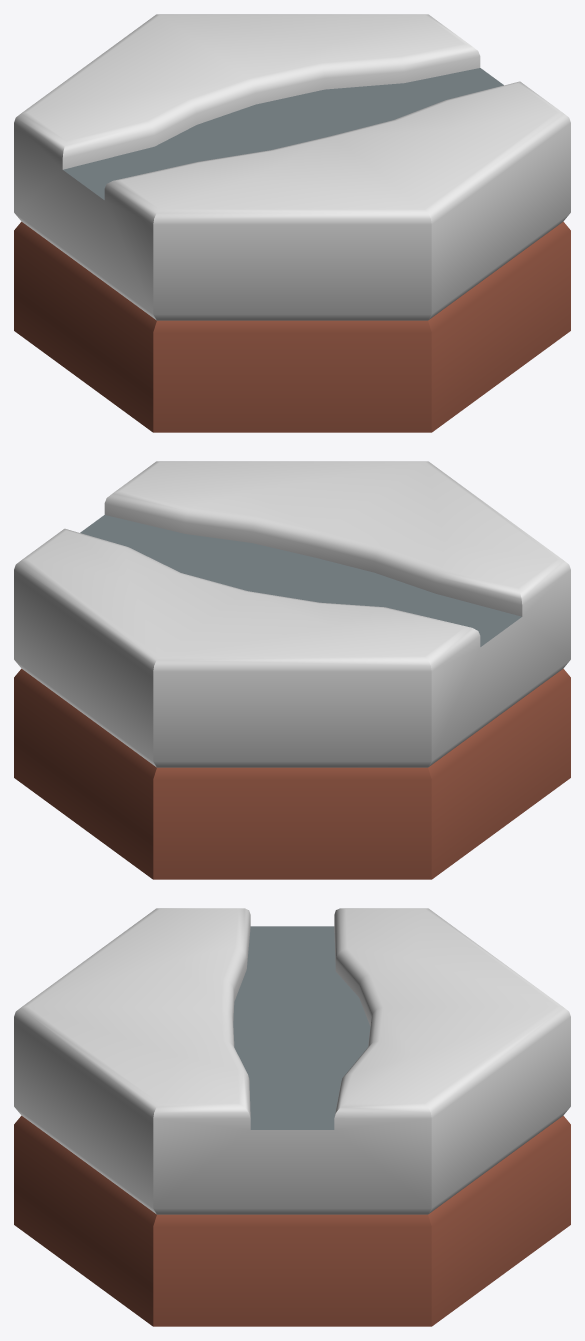
File: hex_snow_roadB_detail.gltf.glb
3 views of the same model, one above another, from view 1: azimuth 30°, elevation 25°; view 2: azimuth 150°, elevation 25°; view 3: azimuth 270°, elevation 25° (orthographic).
Visible parts, largest first — view 1: hex_snow_roadB_detail; view 2: hex_snow_roadB_detail; view 3: hex_snow_roadB_detail.
Boxes of the visible parts, box(x1,y1,x2,y2) form: hex_snow_roadB_detail: box(14, 14, 570, 432); hex_snow_roadB_detail: box(14, 461, 570, 879); hex_snow_roadB_detail: box(14, 908, 570, 1326).
Size of the model in its own units: 2 by 1 by 2.31.
